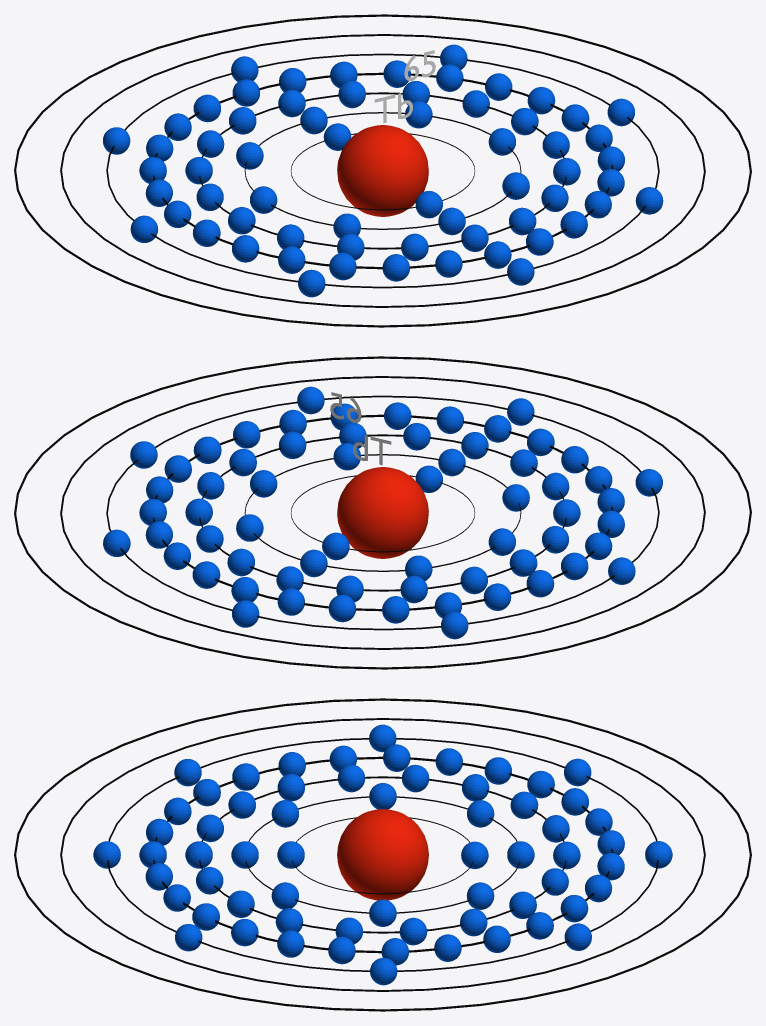
The picture shows the model from 3 angles, top to bottom: view 1: azimuth 30°, elevation 25°; view 2: azimuth 150°, elevation 25°; view 3: azimuth 270°, elevation 25°; orthographic projection.
Parts seen in each view (by area): view 1: Tb4, Tb3, Proton, n7, Tb2, Tb5, n6, n5, n4, Tb1, n3, n2; view 2: Tb4, Tb3, Proton, Tb5, n7, Tb2, n6, n5, n4, Tb1, n3, n2; view 3: Tb4, Tb3, Proton, Tb2, Tb5, n7, n6, n5, n4, Tb1, n3, n2 (+1 smaller).
Boxes of the visible parts, x1,y1,x2,y2 form: Tb4: (139,60,624,281); Tb3: (185,80,580,261); Proton: (337,125,428,216); n7: (14,14,751,327); Tb2: (236,101,529,238); Tb5: (103,44,663,297); n6: (60,34,705,307); n5: (106,53,659,288); n4: (153,72,613,269); Tb1: (323,123,442,218); n3: (199,92,566,249); n2: (244,112,521,229); Tb4: (139,402,624,623); Tb3: (185,422,580,603); Proton: (337,467,428,558); Tb5: (103,386,662,639); n7: (14,356,751,669); Tb2: (236,443,529,580); n6: (60,376,705,649); n5: (106,395,659,630); n4: (153,414,613,611); Tb1: (322,465,442,560); n3: (199,434,566,591); n2: (244,454,521,571); Tb4: (139,744,624,965); Tb3: (185,764,580,945); Proton: (337,809,428,900); Tb2: (231,783,534,926); Tb5: (93,724,672,985); n7: (14,698,751,1011); n6: (60,718,705,991); n5: (107,738,658,971); n4: (153,756,613,953); Tb1: (277,841,488,869); n3: (199,776,566,933); n2: (245,796,520,913).
Bounding box in the file's own units: 802 × 180 × 802.
